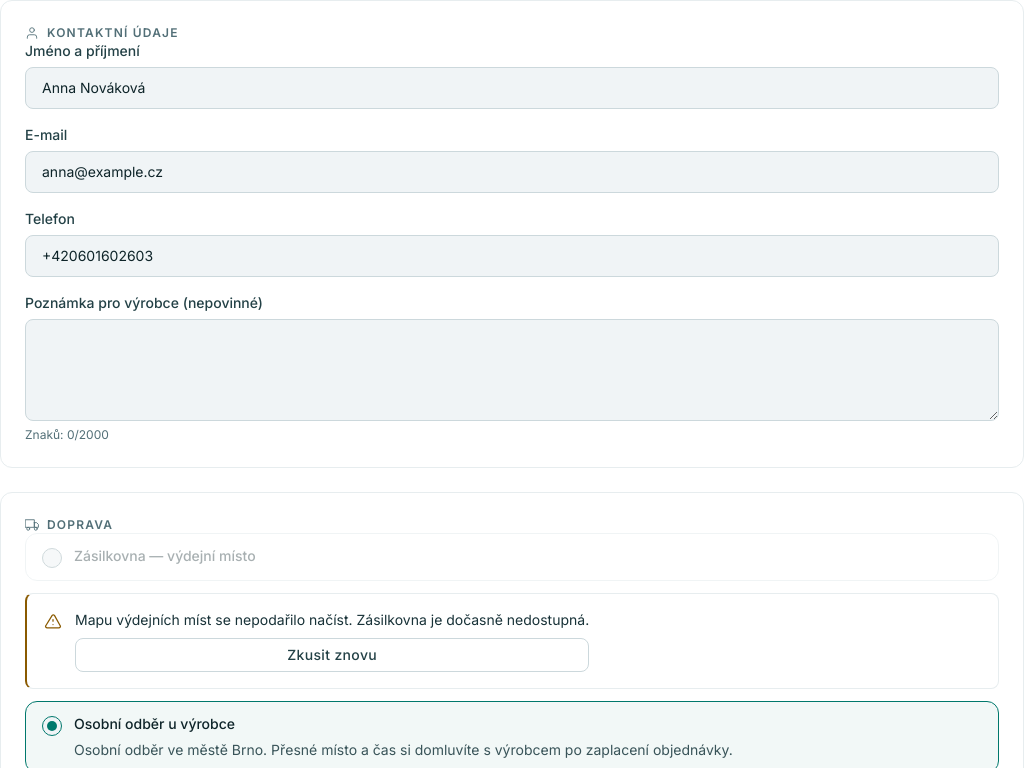
Test: OrderFormClient usability (T-0172) › clears a field error as soon as the user edits that field
This screenshot has width=1024, height=768.
Clear the field showing "Anna Nováková": (512, 88) 25,67 -> 999,109
(page scrolled)
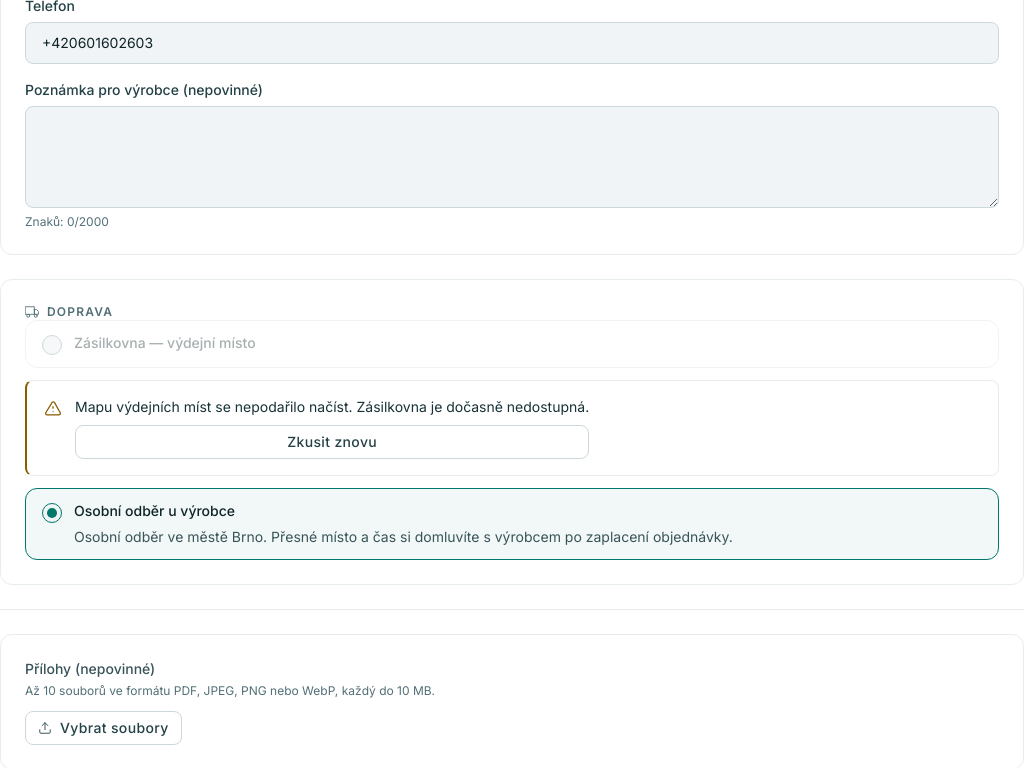
Submit the form
(page scrolled)
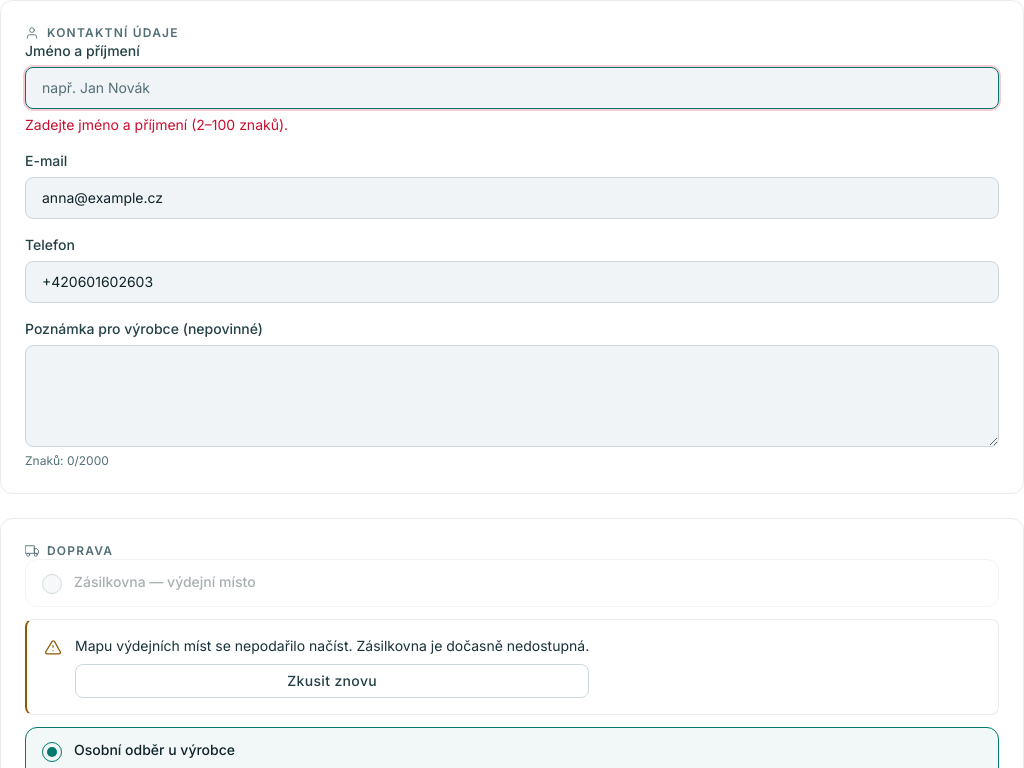
Now the text "Zadejte jméno a příjmení (2–100 znaků)." is shown, box 25,116 -> 288,133
In the field labelled "Jméno a příjmení": (512, 88) 25,67 -> 999,109, type "Anna Nováková"
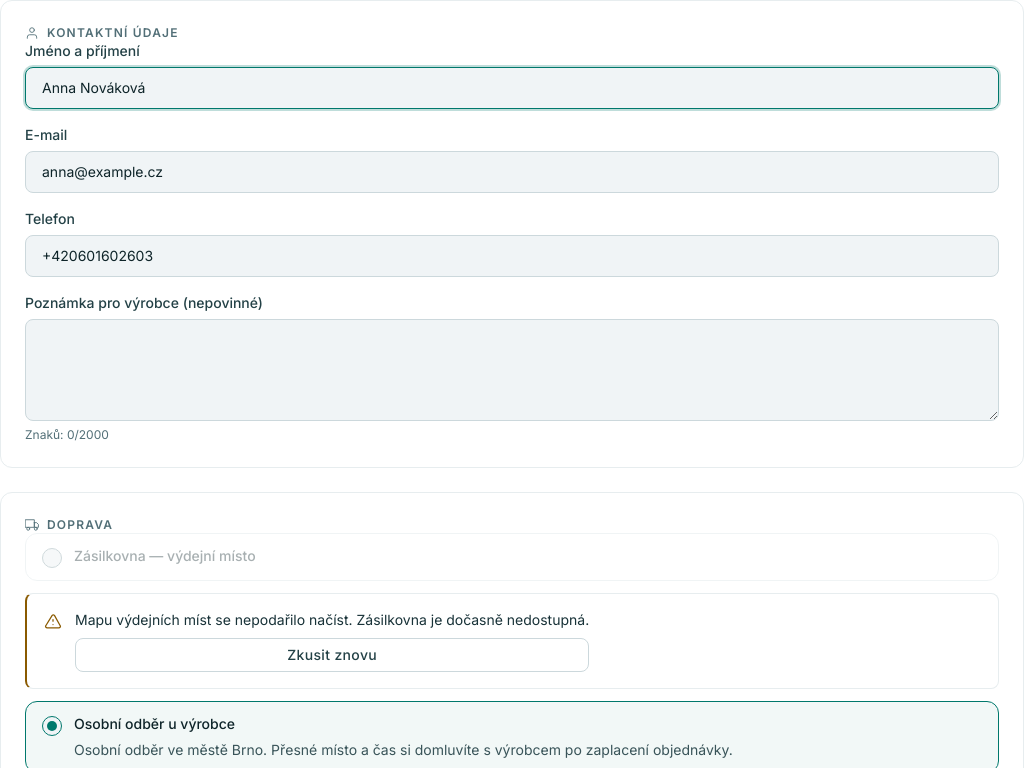
Now the text "Zadejte jméno a příjmení (2–100 znaků)." is gone
